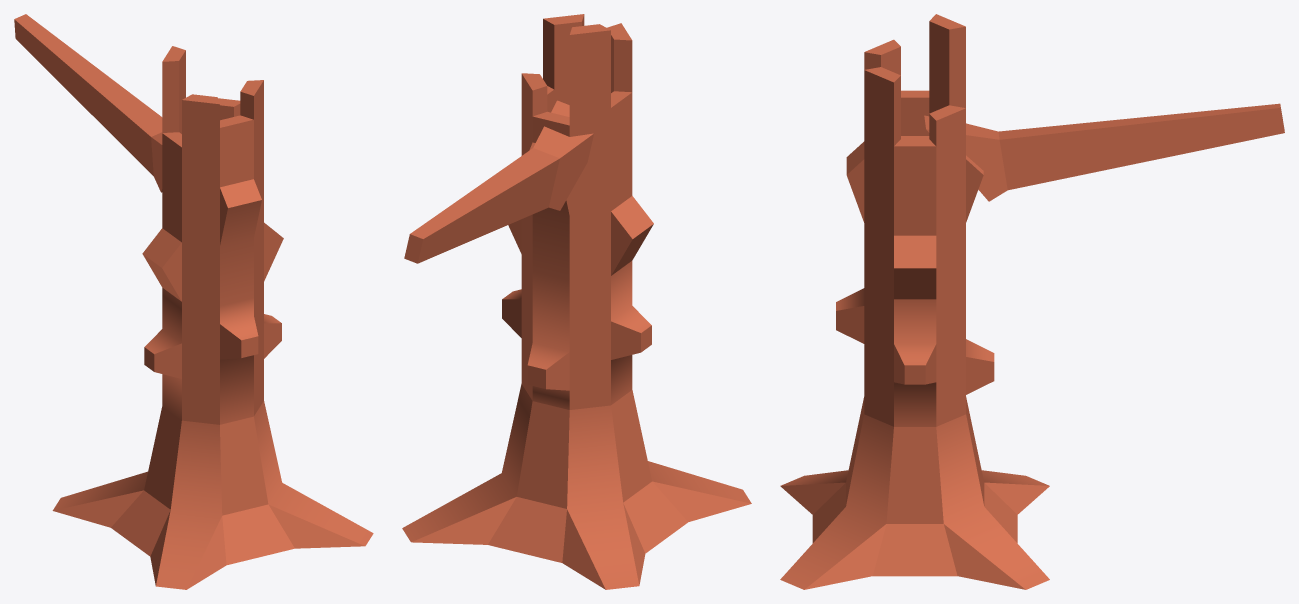
Rendered from Tree.fbx.
The picture shows the model from 3 angles, left to right: view 1: azimuth 30°, elevation 25°; view 2: azimuth 150°, elevation 25°; view 3: azimuth 270°, elevation 25°; orthographic projection. The views are drawn at different scales.
Visible parts, largest first — view 1: mergedBlocks; view 2: mergedBlocks; view 3: mergedBlocks.
Boxes of the visible parts, x1,y1,x2,y2 form: mergedBlocks: [14, 14, 373, 589]; mergedBlocks: [402, 14, 751, 589]; mergedBlocks: [780, 14, 1284, 589].
Bounding box in the file's own units: 9.6 × 19.5 × 17.94.
